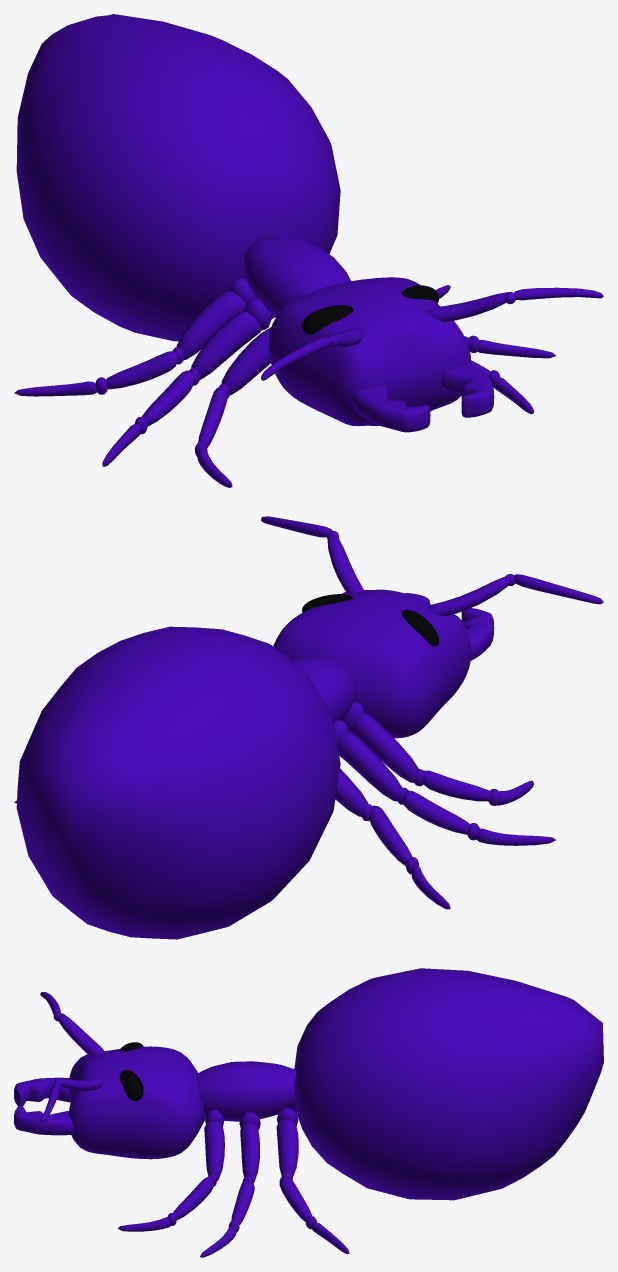
The model's file is Reine bleue.fbx.
3 renders of one model, top to bottom at view 1: azimuth 30°, elevation 25°; view 2: azimuth 150°, elevation 25°; view 3: azimuth 270°, elevation 25°, orthographic. The views are drawn at different scales.
Parts seen in each view (by area): view 1: Reine bleue; view 2: Reine bleue; view 3: Reine bleue.
Boxes of the visible parts, box(x1,y1,x2,y2) form: Reine bleue: box(14, 14, 603, 487); Reine bleue: box(14, 516, 603, 939); Reine bleue: box(14, 968, 603, 1257).
Bounding box in the file's own units: 4.92 × 2.82 × 7.2.
